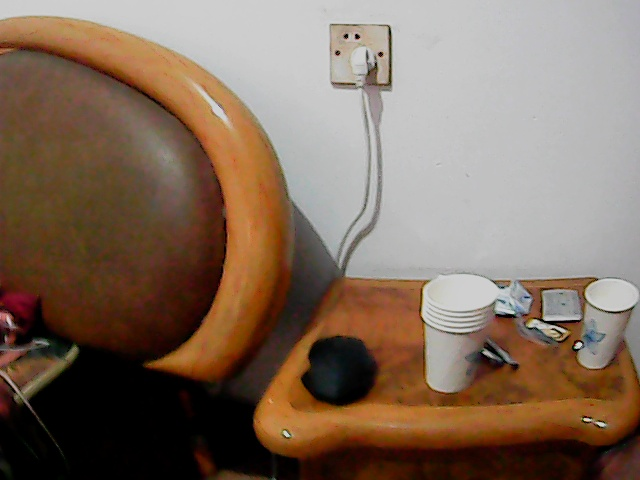cup: (420, 271, 493, 391)
mouse: (298, 332, 375, 402)
